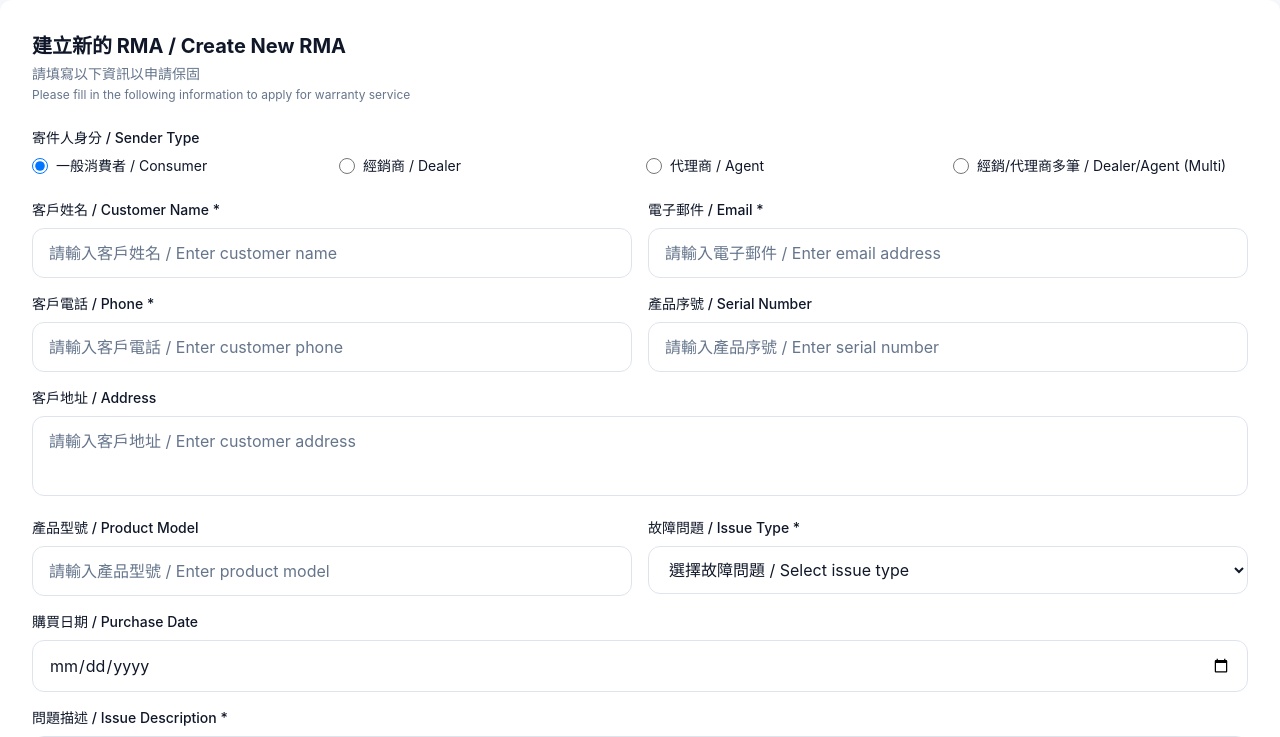
RmaForm — 序號驗證 Dialog › 輸入 EN13319 後 blur 應清空欄位並顯示警告 Dialog
In the field with placeholder "請輸入產品序號 / Enter serial number": (948, 347) [648,322,1248,372], type "EN13319"
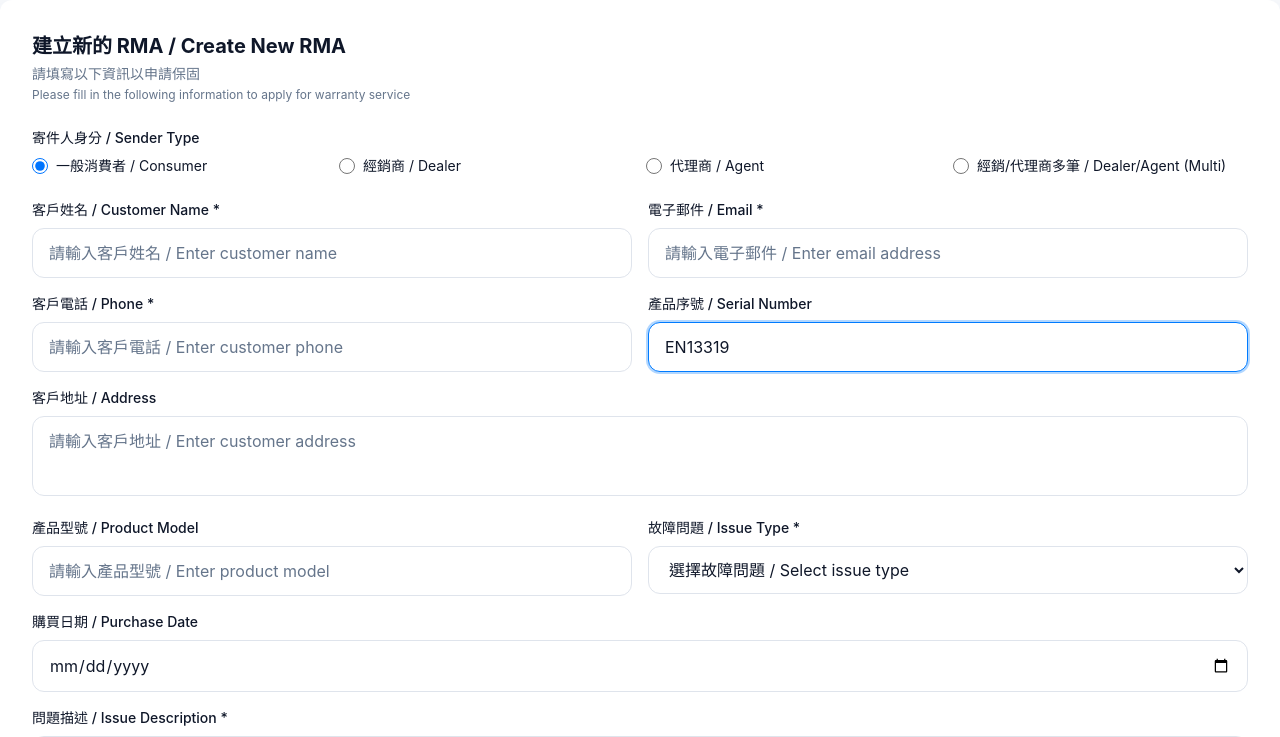
Leave the field with placeholder "請輸入產品序號 / Enter serial number", box [648,322,1248,372]
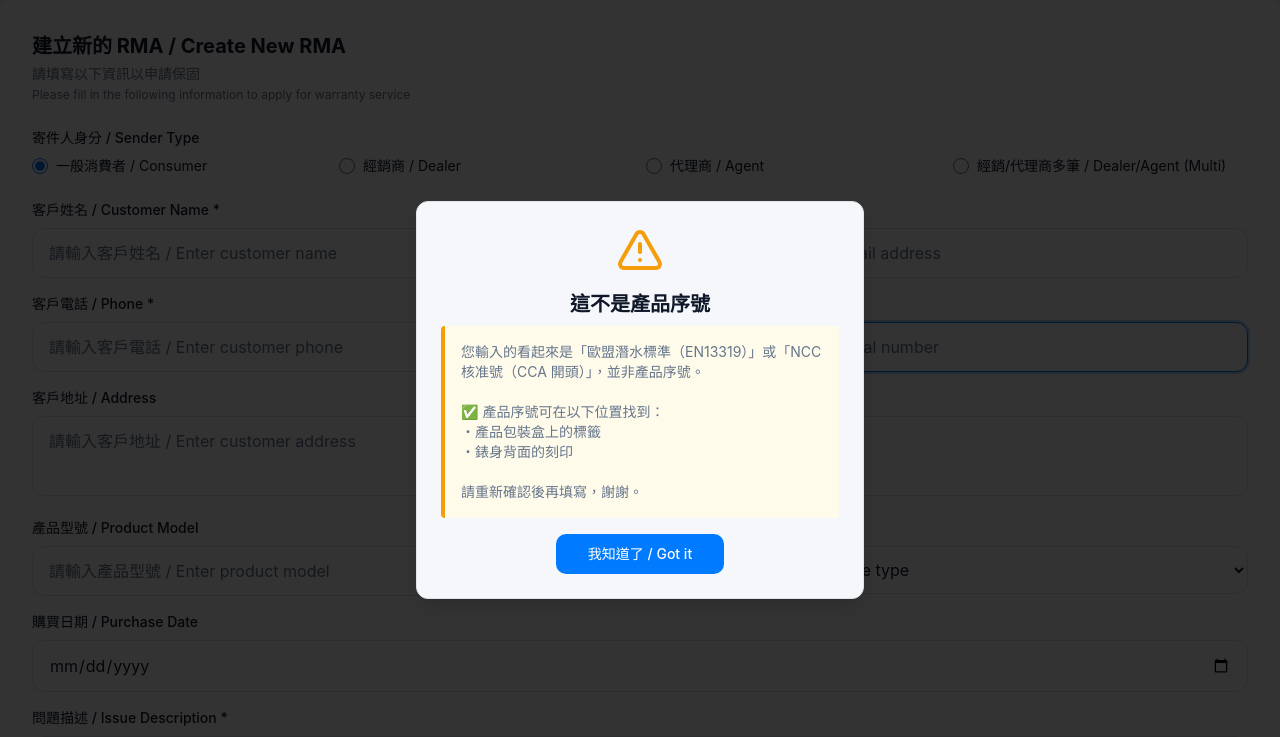
Now the field with placeholder "請輸入產品序號 / Enter serial number" is empty, box [648,322,1248,372]
Now the heading "這不是產品序號" is shown, box [570,292,710,316]
